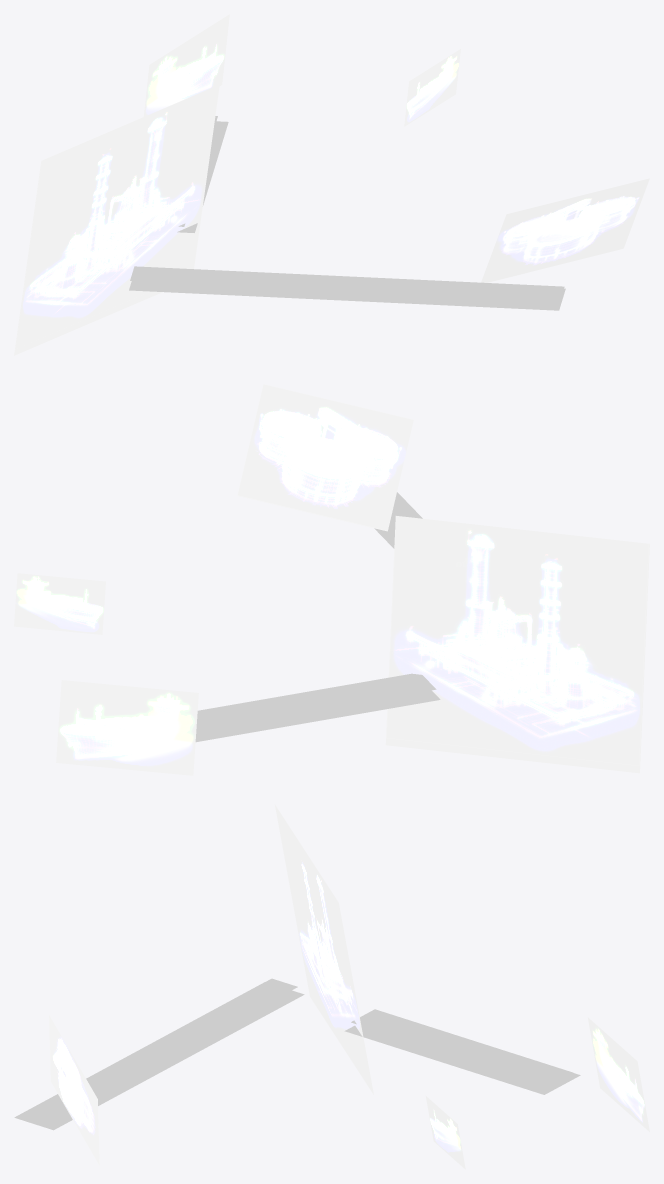
The model's file is energy-chapter.glb.
The picture shows the model from 3 angles, top to bottom: view 1: azimuth 30°, elevation 25°; view 2: azimuth 150°, elevation 25°; view 3: azimuth 270°, elevation 25°; orthographic projection. The views are drawn at different scales.
Parts seen in each view (by area): view 1: Hologram1, Line.001, Hologram0, Hologram2, Hologram3, Line.002; view 2: Hologram1, Hologram0, Hologram2, Line.002, Hologram3, Line.001; view 3: Hologram1, Line.001, Line.002, Hologram0, Hologram2, Hologram3.
Part boxes in pixels (x1,y1,x2,y2): Hologram1: (14,84,219,355); Line.001: (129,266,565,310); Hologram0: (481,178,649,282); Hologram2: (143,14,229,116); Hologram3: (404,49,460,126); Line.002: (177,116,228,232); Hologram1: (385,516,649,773); Hologram0: (237,384,413,531); Hologram2: (56,680,198,775); Line.002: (195,673,440,742); Hologram3: (14,573,105,634); Line.001: (374,492,422,548); Hologram1: (275,805,373,1094); Line.001: (14,978,304,1130); Line.002: (344,1009,580,1094); Hologram0: (49,1015,99,1165); Hologram2: (588,1017,649,1131); Hologram3: (426,1096,465,1169).
Size of what is drawn, in the model's own units: 31.42 by 11.81 by 34.6.
5 materials, 4 textured.
